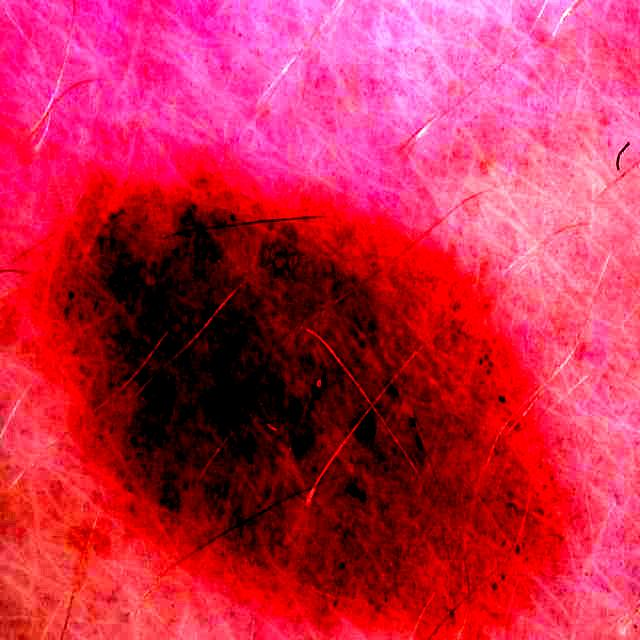NV: (69, 175, 563, 637)
